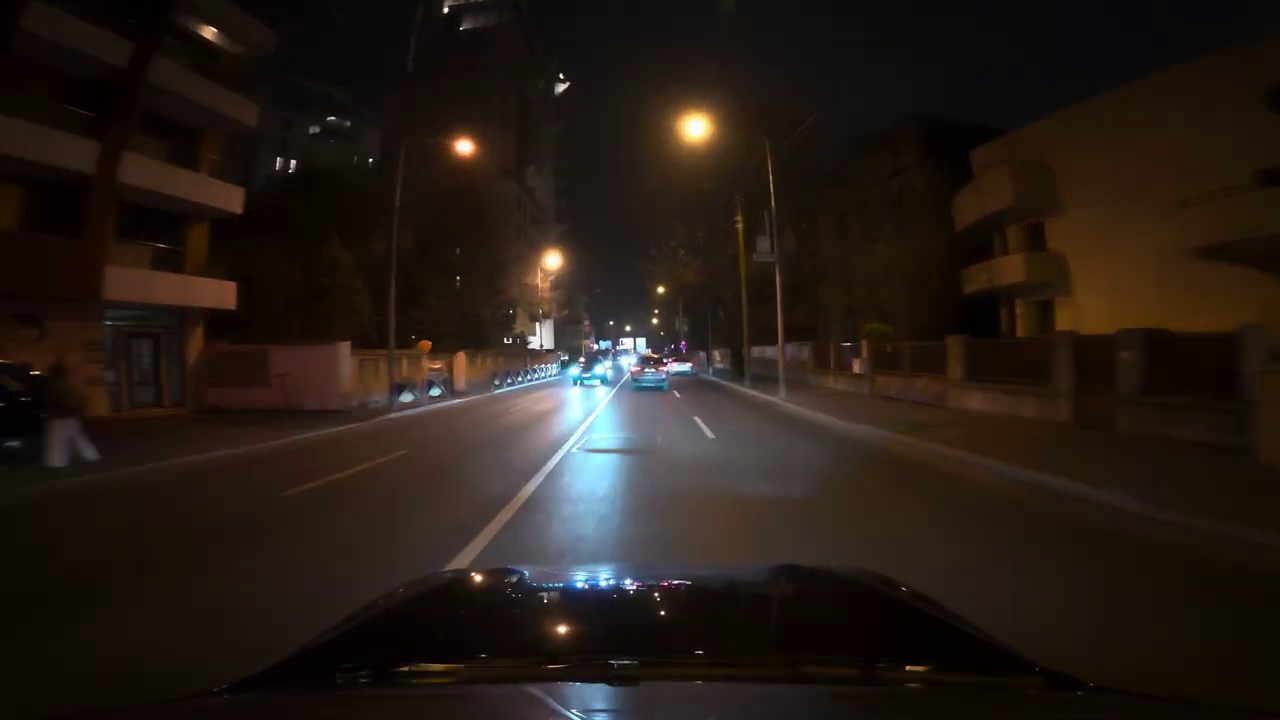acesa: (675, 112, 714, 146), (537, 248, 564, 276), (451, 134, 477, 159), (652, 282, 670, 300)
